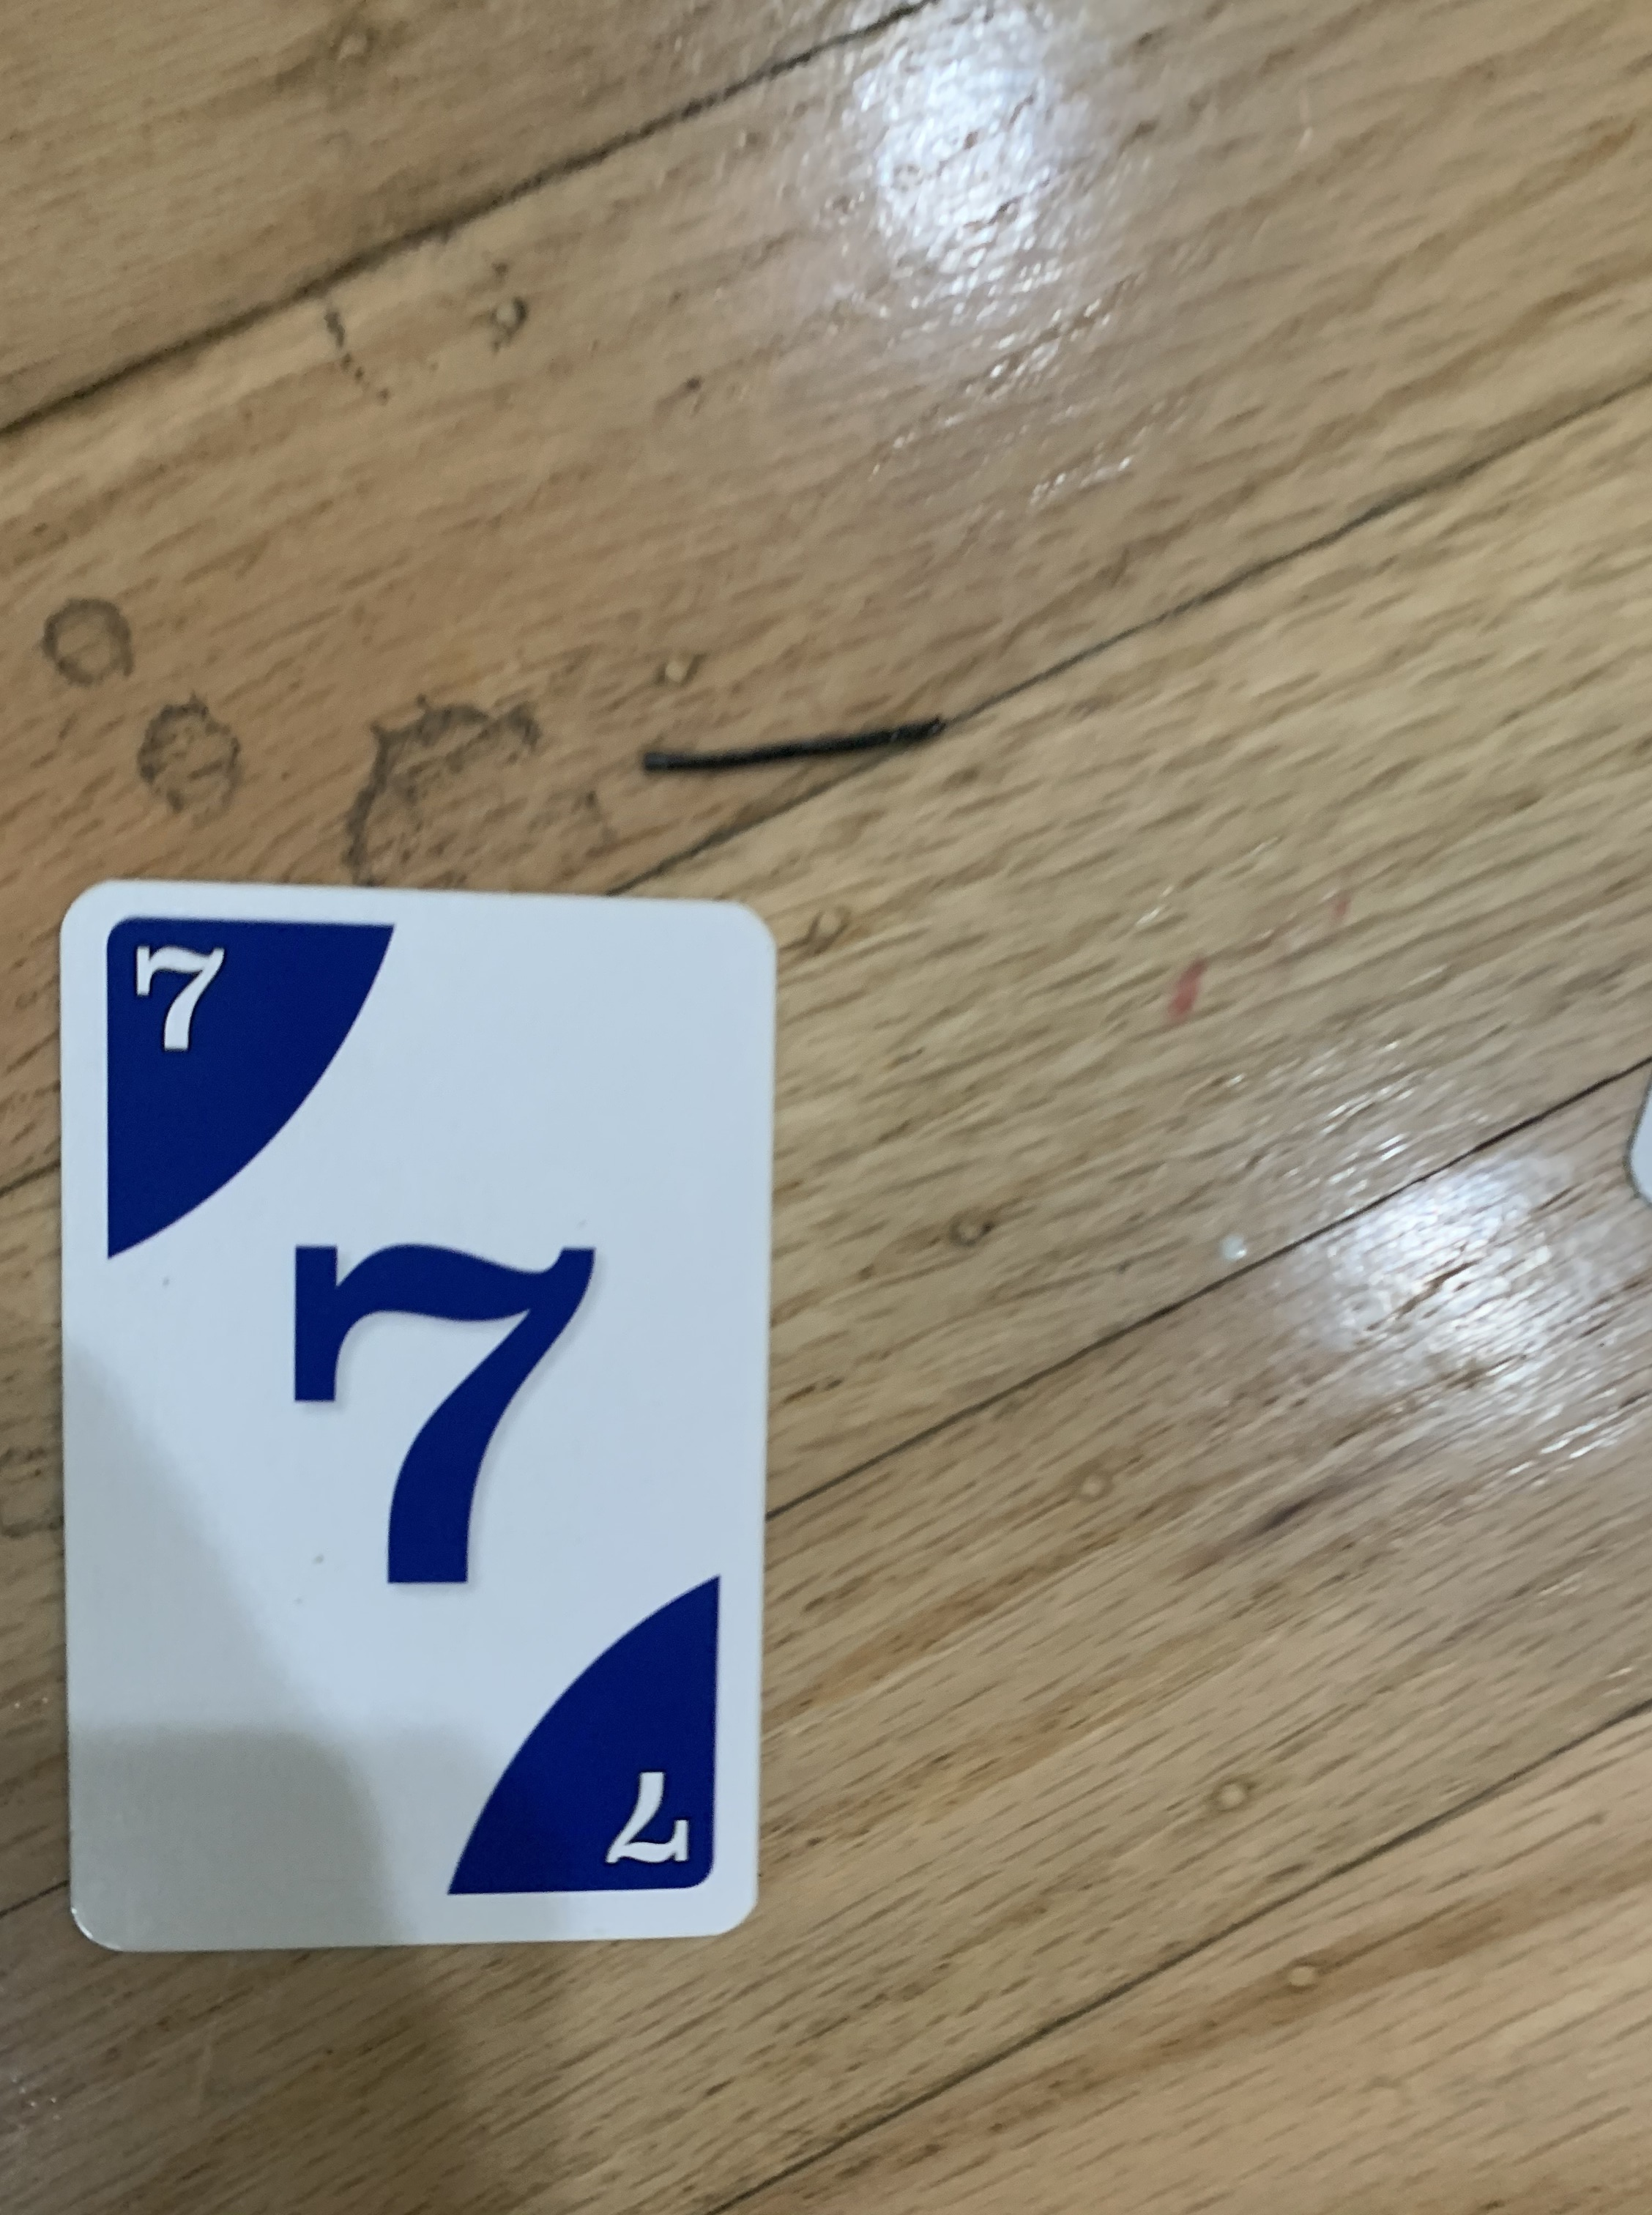seven: (43, 870, 798, 1962)
